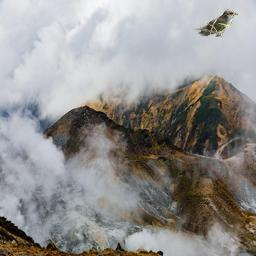Cuckoo: (192, 9, 238, 37)
